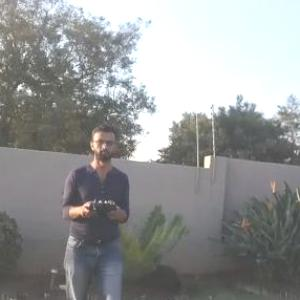follow: (60, 118, 138, 299)
